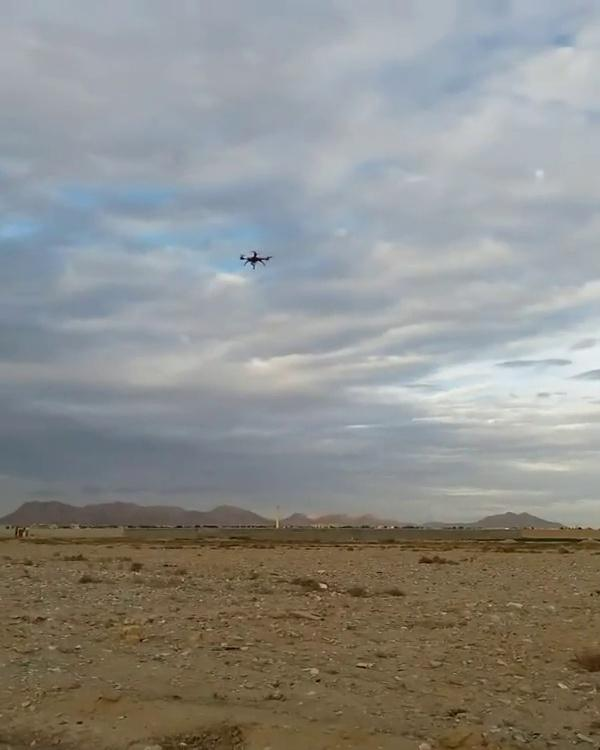drone: (229, 246, 275, 274)
